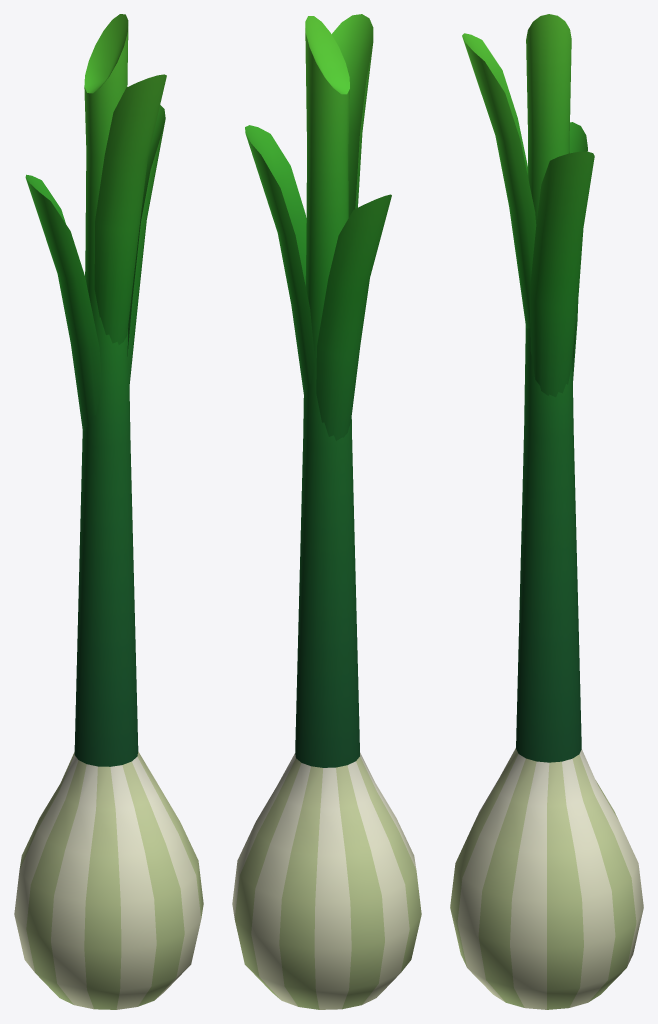
File: Spring_Onion_02.glb
3 renders of one model, left to right at view 1: azimuth 30°, elevation 25°; view 2: azimuth 150°, elevation 25°; view 3: azimuth 270°, elevation 25°, orthographic.
Visible parts, largest first — view 1: Spring_Onion_02; view 2: Spring_Onion_02; view 3: Spring_Onion_02.
Part boxes in pixels (left/top/right/bottom): Spring_Onion_02: left=14, top=14, right=203, bottom=1009; Spring_Onion_02: left=232, top=14, right=421, bottom=1009; Spring_Onion_02: left=450, top=14, right=643, bottom=1009.
Size of the model in its own units: 0.116 by 0.6595 by 0.116.
Materials: 1 (1 with a texture image).
